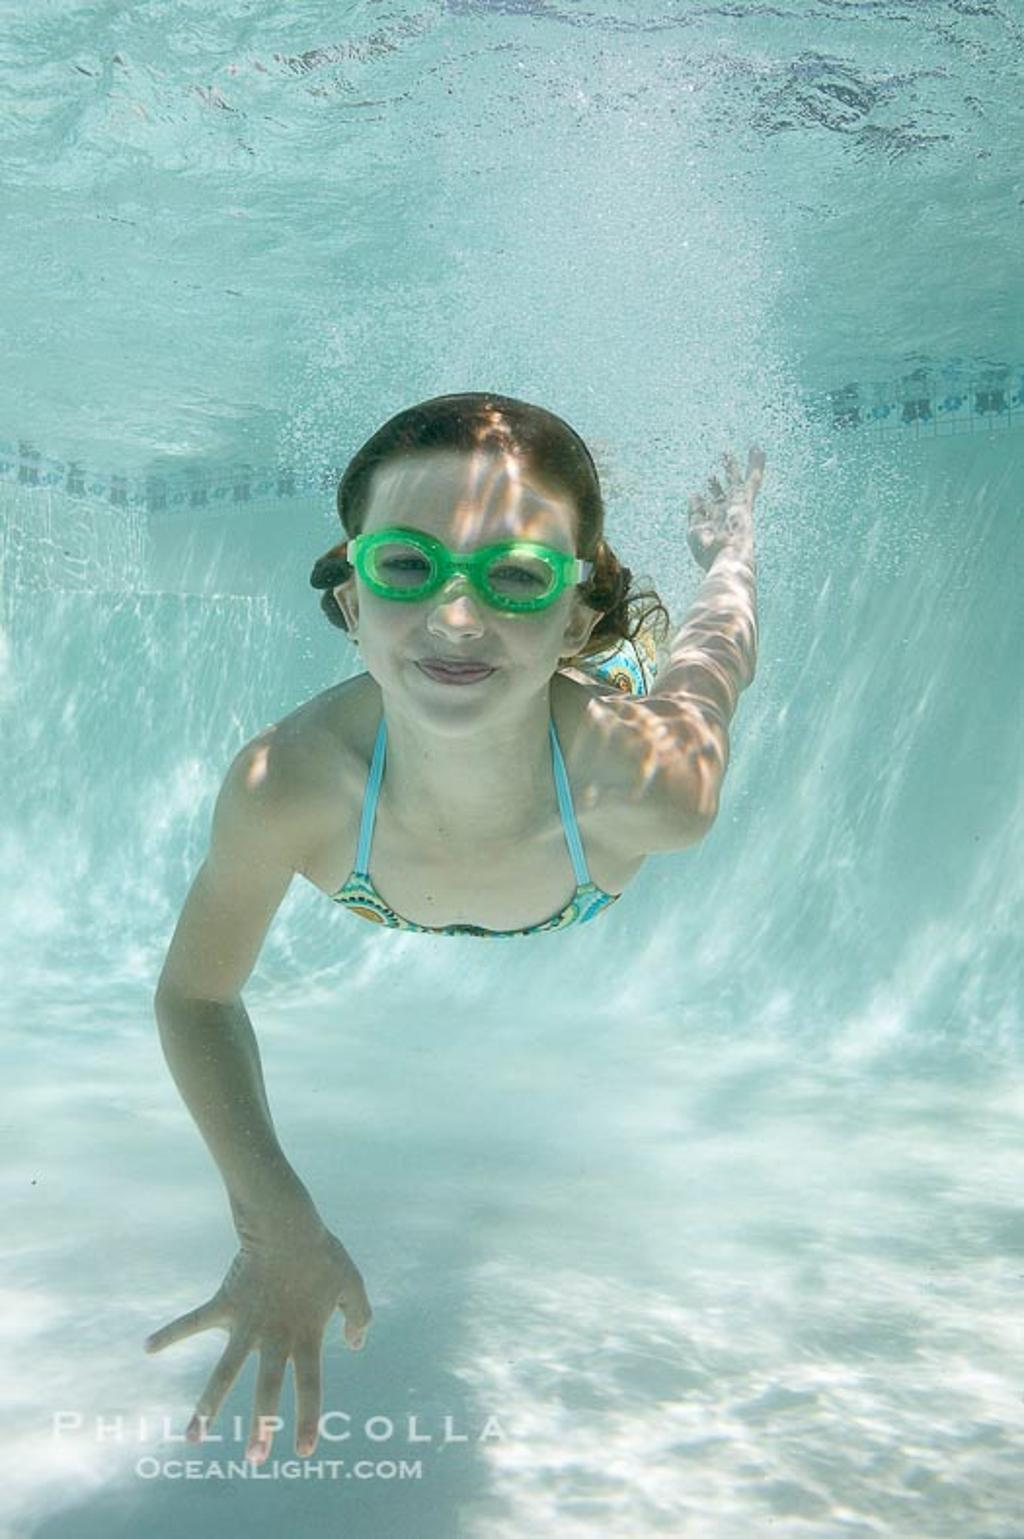face: (349, 484, 577, 736)
